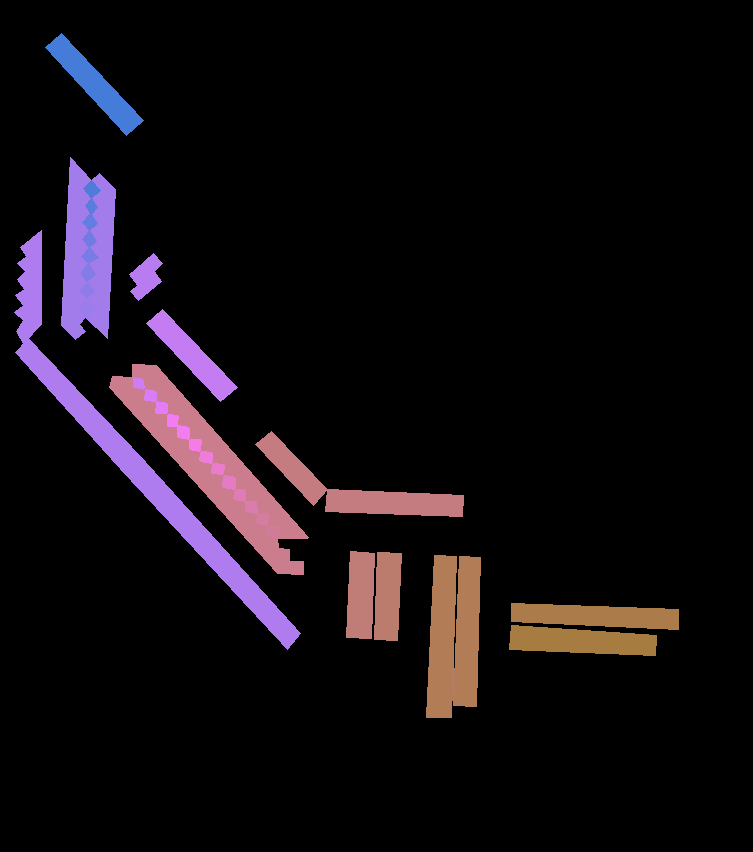parkingspot: (15, 338, 300, 649), (109, 376, 303, 574), (132, 364, 308, 538), (45, 33, 143, 135), (146, 309, 237, 401), (61, 157, 91, 339), (255, 431, 327, 505), (85, 173, 115, 338), (426, 555, 456, 717), (509, 625, 656, 655), (511, 603, 678, 629), (453, 556, 480, 706), (325, 489, 463, 516), (14, 230, 41, 343), (346, 551, 374, 638), (374, 552, 401, 640), (129, 253, 162, 300)
